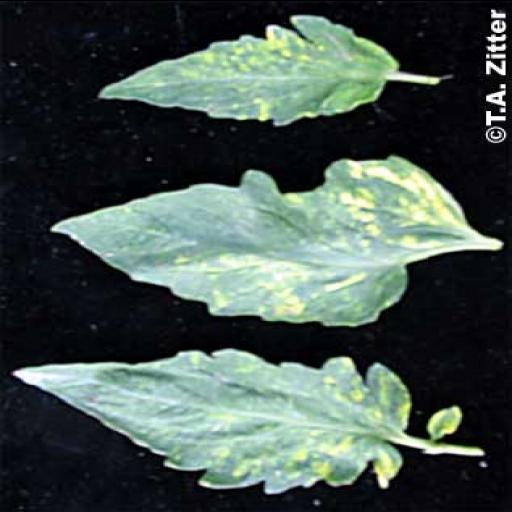disease_tomato: (53, 154, 478, 326), (10, 347, 412, 494), (99, 14, 397, 123)
